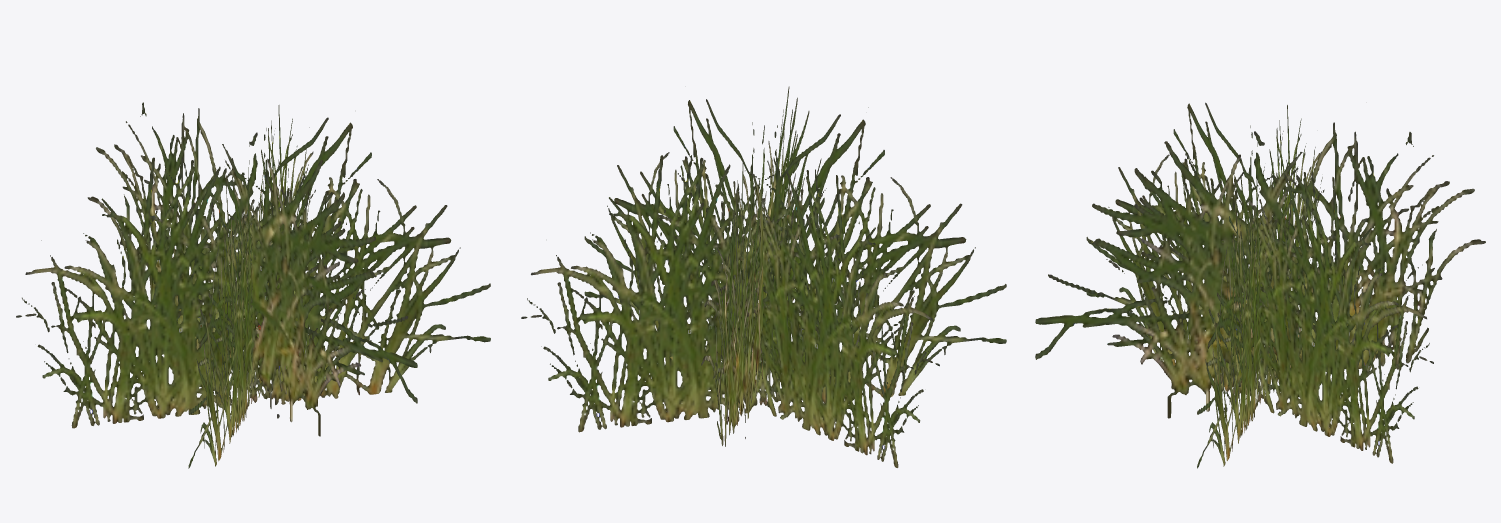
File: grass_a.glb
3 views of the same model, side by side, from view 1: azimuth 30°, elevation 25°; view 2: azimuth 150°, elevation 25°; view 3: azimuth 270°, elevation 25° (orthographic). The views are drawn at different scales.
Parts seen in each view (by area): view 1: grass_a; view 2: grass_a; view 3: grass_a.
Boxes of the visible parts, <box> form: grass_a: <box>16,102,490,468</box>; grass_a: <box>521,86,1006,467</box>; grass_a: <box>1035,102,1485,468</box>.
Size of the model in its own units: 0.8102 by 0.55 by 0.7666.
Materials: 1 (1 with a texture image).
